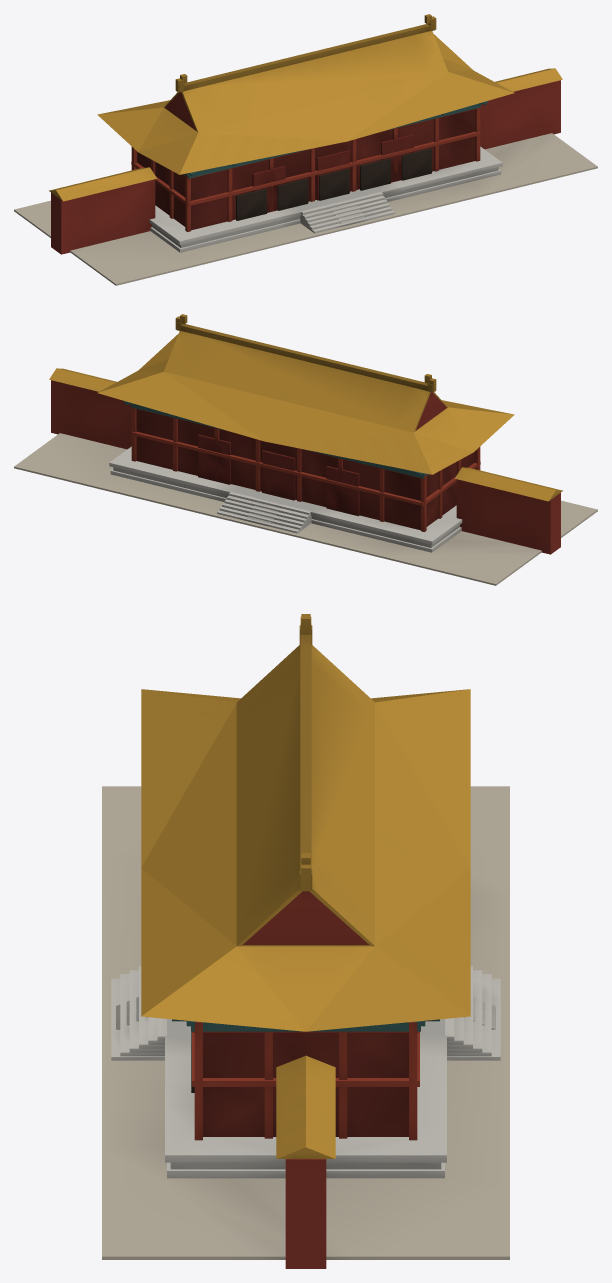
The model's file is dianmen.glb.
3 renders of one model, top to bottom at view 1: azimuth 30°, elevation 25°; view 2: azimuth 150°, elevation 25°; view 3: azimuth 270°, elevation 25°, orthographic. The views are drawn at different scales.
Visible parts, largest first — view 1: p0_walls, p2_roofs, p1_halls; view 2: p0_walls, p2_roofs, p1_halls; view 3: p2_roofs, p0_walls, p1_halls.
Part boxes in pixels (<box>): p0_walls: <box>14,68,597,285</box>; p2_roofs: <box>97,14,514,174</box>; p1_halls: <box>131,101,488,231</box>; p0_walls: <box>14,368,597,585</box>; p2_roofs: <box>97,314,514,474</box>; p1_halls: <box>123,401,480,531</box>; p2_roofs: <box>141,614,470,1031</box>; p0_walls: <box>102,786,509,1268</box>; p1_halls: <box>172,1019,439,1140</box>.
Bounding box in the file's own units: 62.22 × 17.2 × 22.
